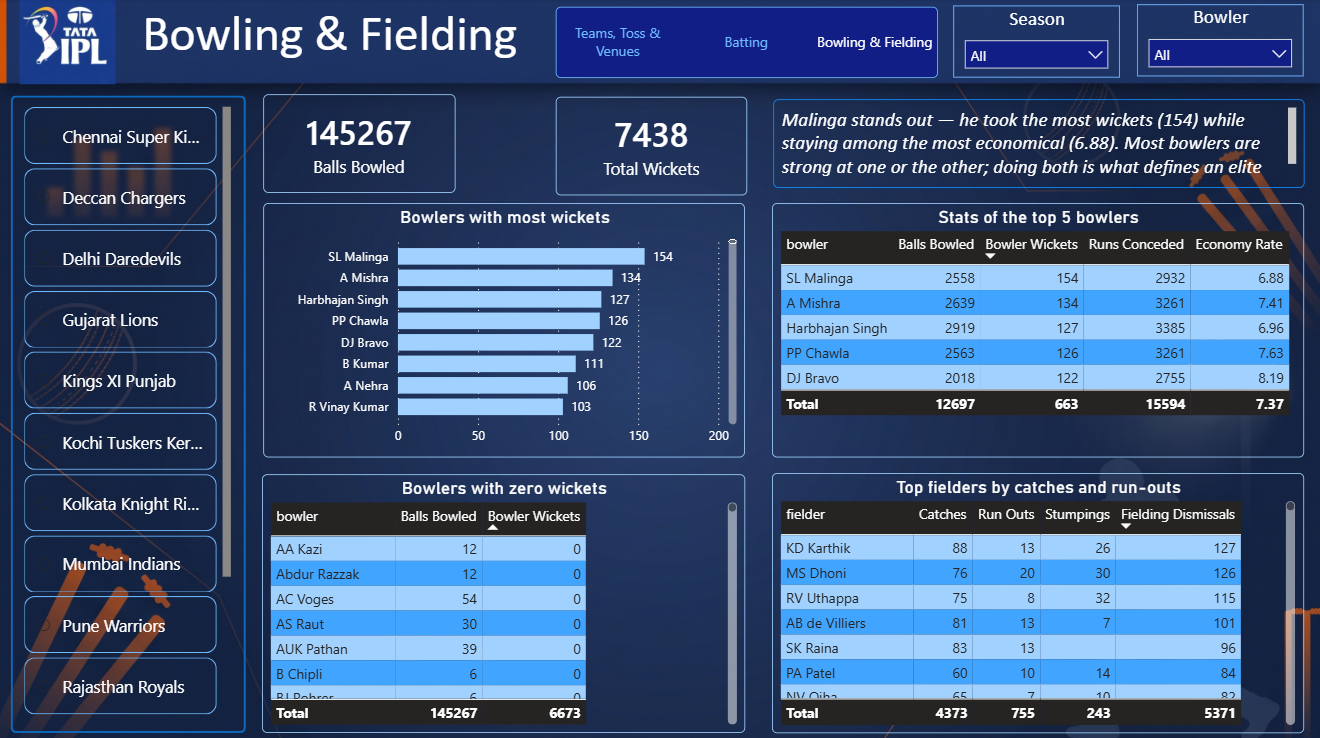

Layout of this report page (visuals, bound fields, positions):
{"tool":"powerbi","page":{"name":"Bowling & Fielding","canvas":[1280,720],"ordinal":2},"visuals":[{"type":"clusteredBarChart","title":"Bowlers with most wickets","fields":{"Category":["deliveries.bowler"],"Y":["Table.Bowler Wickets"]},"box":[256.6,197.6,465.2,245.6],"z":0},{"type":"cardVisual","fields":{"Data":["Table.Balls Bowled"]},"box":[256.6,93.3,185.2,95],"z":1000},{"type":"shape","box":[13.3,94.1,226.8,615.3],"z":2000},{"type":"advancedSlicerVisual","title":"Teams","fields":{"Values":["Teams.team"]},"box":[21.7,100.1,209.9,602],"z":3000},{"type":"image","box":[0,0,136.3,83.2],"z":4000},{"type":"cardVisual","fields":{"Data":["Table.Total Wickets"]},"box":[539.3,95.3,185,95],"z":5000},{"type":"textbox","box":[135.1,0,488.6,70],"z":6000},{"type":"tableEx","title":"Bowlers with zero wickets","fields":{"Values":["deliveries.bowler","Table.Balls Bowled","Table.Bowler Wickets"]},"box":[255.2,459.7,466.6,249.7],"z":7000},{"type":"tableEx","title":"Stats of the top 5 bowlers","fields":{"Values":["deliveries.bowler","Table.Balls Bowled","Table.Bowler Wickets","Table.Runs Conceded","Table.Economy Rate"]},"box":[747.9,197.6,513.2,245.6],"z":8000},{"type":"tableEx","title":"Top fielders by catches and run-outs","fields":{"Values":["deliveries.fielder","Table.Catches","Table.Run Outs","Table.Stumpings","Table.Fielding Dismissals"]},"box":[747.9,458.3,513.2,251.1],"z":9000},{"type":"slicer","title":"Season","fields":{"Values":["matches.season"]},"box":[923.5,6.9,160.5,70],"z":10000},{"type":"slicer","title":"Bowler","fields":{"Values":["deliveries.bowler"]},"box":[1100.5,5.5,160.5,70],"z":11000},{"type":"pageNavigator","box":[539.3,8.4,369.2,68.8],"z":12000},{"type":"textbox","box":[749.2,97.7,512.7,85.7],"z":12001}]}

Visuals, with their boxes in screenshot pixels (x1, y1, x2, y2), scaled from the page's 1280x720 canvas onto the 1320x738 screenshot:
"Bowlers with most wickets" clusteredBarChart: [265, 203, 744, 454]
cardVisual - Table.Balls Bowled: [265, 96, 456, 193]
shape: [14, 96, 248, 727]
"Teams" advancedSlicerVisual: [22, 103, 239, 720]
image: [0, 0, 141, 85]
cardVisual - Table.Total Wickets: [556, 98, 747, 195]
textbox: [139, 0, 643, 72]
"Bowlers with zero wickets" tableEx: [263, 471, 744, 727]
"Stats of the top 5 bowlers" tableEx: [771, 203, 1301, 454]
"Top fielders by catches and run-outs" tableEx: [771, 470, 1301, 727]
"Season" slicer: [952, 7, 1118, 79]
"Bowler" slicer: [1135, 6, 1300, 77]
pageNavigator: [556, 9, 937, 79]
textbox: [773, 100, 1301, 188]
